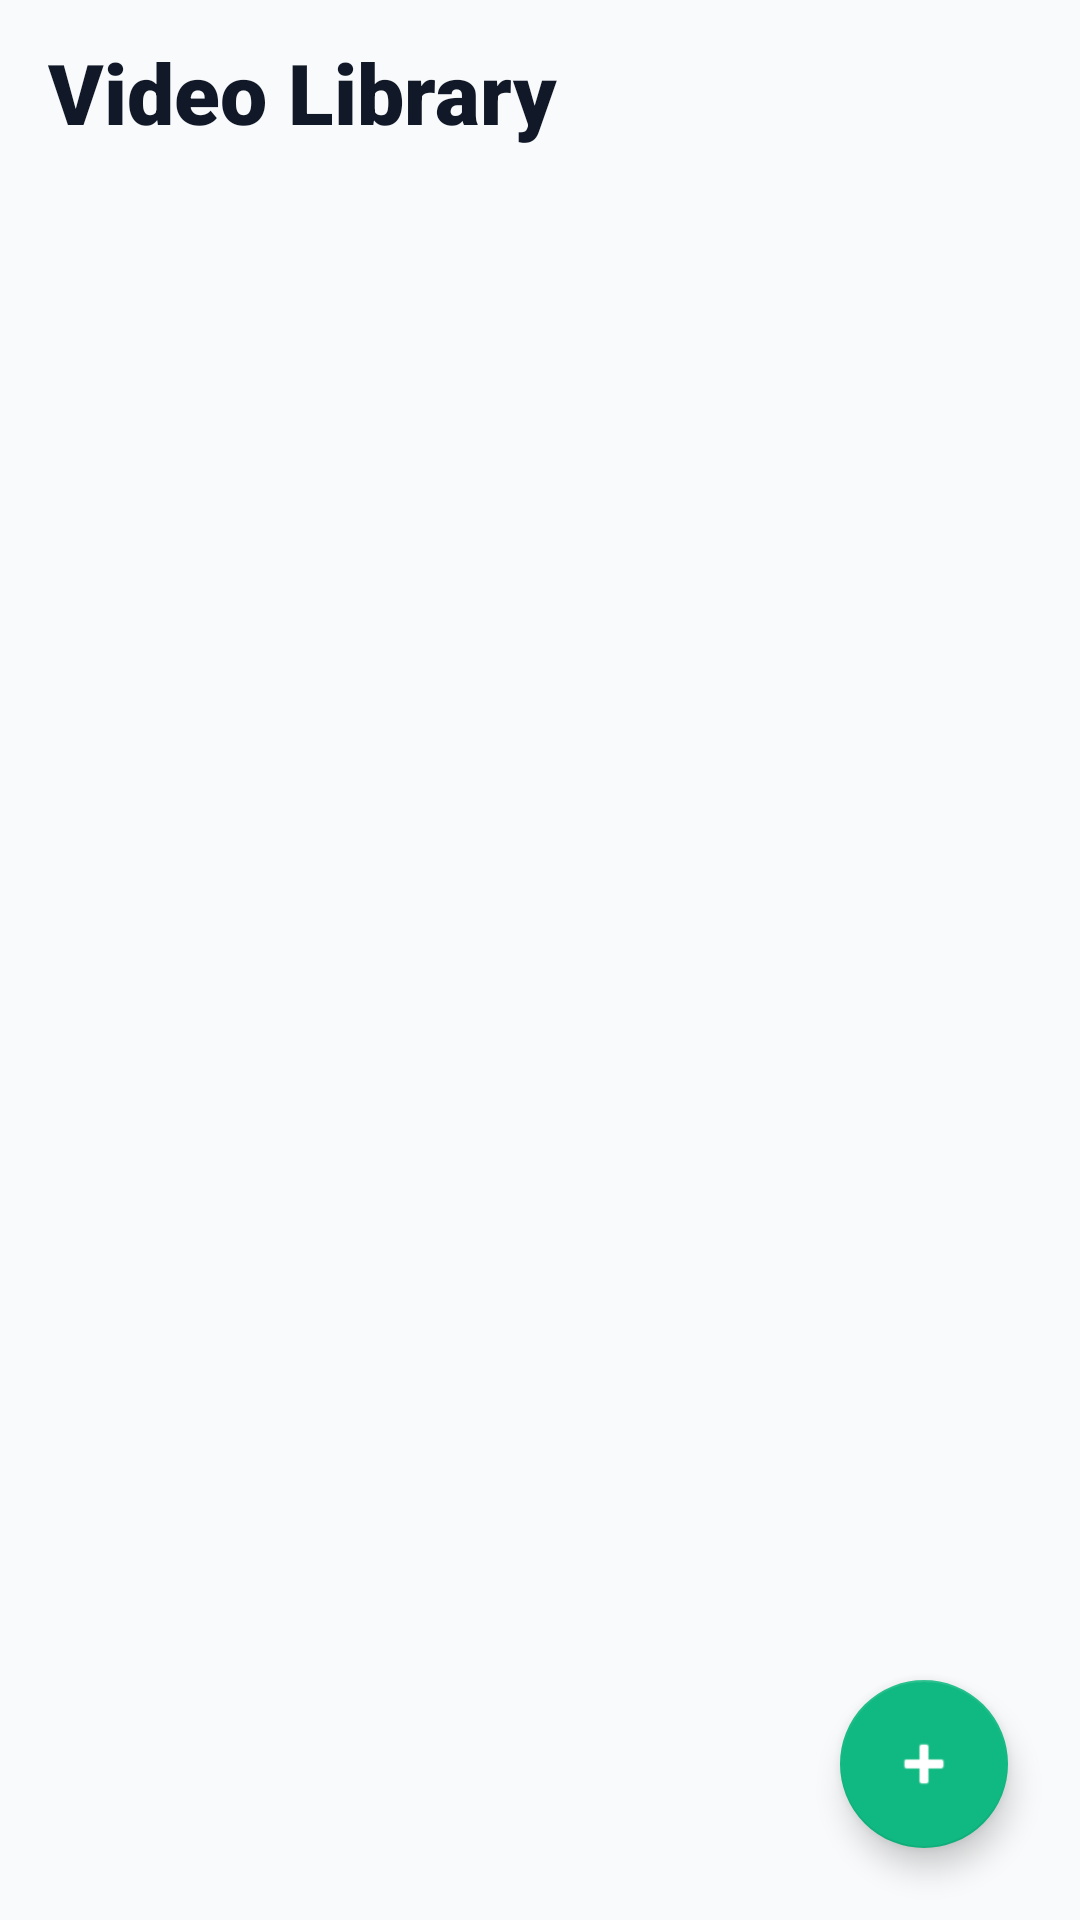

Screen size 1080w x 1920h. Icon name, then its center in pixels as (x=x, y=y):
Add Video: (x=924, y=1764)
